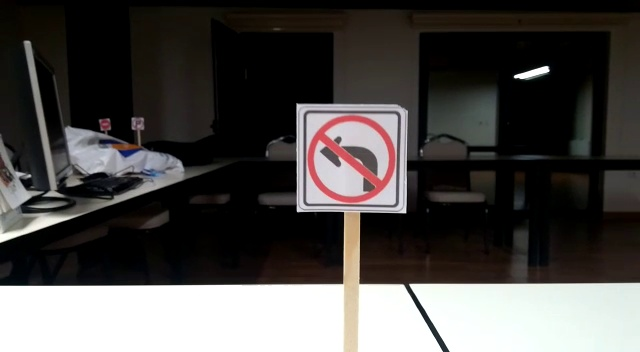sola_donulmez: (309, 108, 407, 209)
